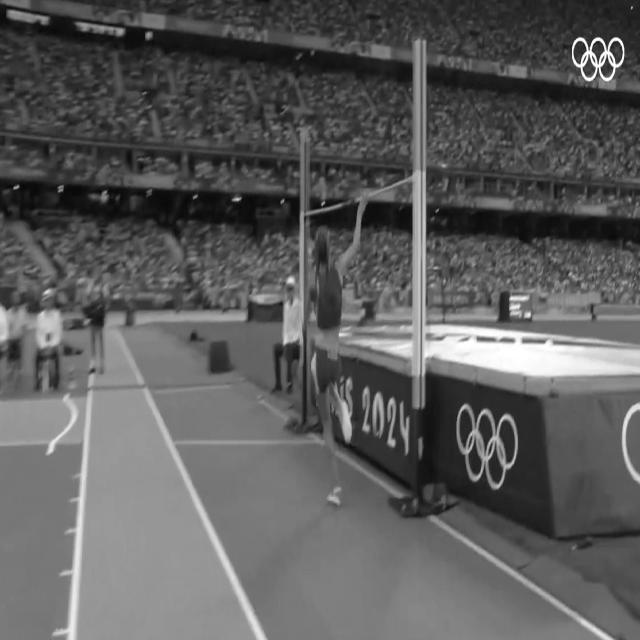jump: (303, 190, 369, 508)
